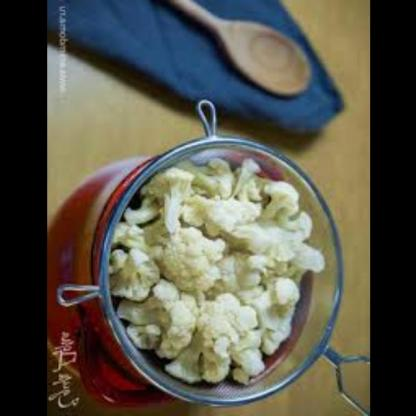cayliflower: (112, 146, 323, 388)
